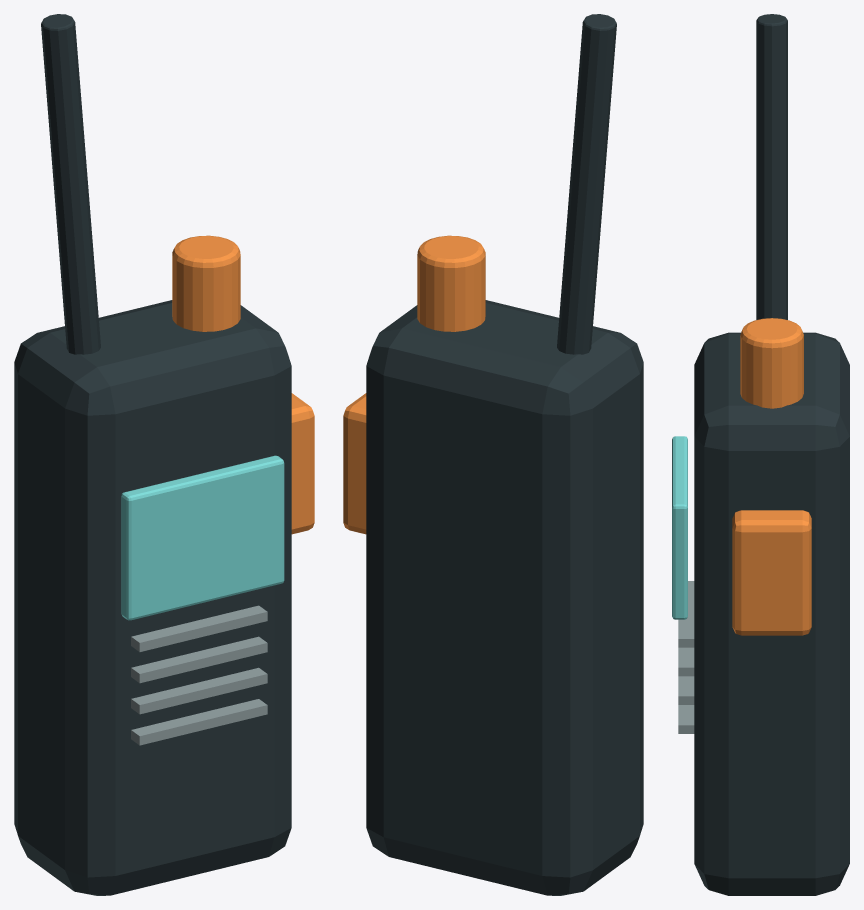
Rendered from P053_walkie_talkie.glb.
3 renders of one model, left to right at view 1: azimuth 30°, elevation 25°; view 2: azimuth 150°, elevation 25°; view 3: azimuth 270°, elevation 25°, orthographic. The views are drawn at different scales.
Parts seen in each view (by area): view 1: P053_body_001, P053_screen_002, P053_antenna_003, P053_knob_004, P053_push_button_009, P053_speaker_line_006, P053_speaker_line_007, P053_speaker_line_008, P053_speaker_line_005; view 2: P053_body_001, P053_antenna_003, P053_knob_004, P053_push_button_009; view 3: P053_body_001, P053_push_button_009, P053_antenna_003, P053_knob_004, P053_screen_002, P053_speaker_line_008, P053_speaker_line_007, P053_speaker_line_005, P053_speaker_line_006.
Boxes of the visible parts, <box> form: P053_body_001: <box>14,300,291,895</box>; P053_screen_002: <box>121,455,284,620</box>; P053_antenna_003: <box>41,14,100,354</box>; P053_knob_004: <box>172,235,240,331</box>; P053_push_button_009: <box>291,393,314,534</box>; P053_speaker_line_006: <box>131,667,267,714</box>; P053_speaker_line_007: <box>131,636,267,683</box>; P053_speaker_line_008: <box>131,605,267,651</box>; P053_speaker_line_005: <box>131,699,267,745</box>; P053_body_001: <box>366,300,643,895</box>; P053_antenna_003: <box>557,14,616,354</box>; P053_knob_004: <box>417,235,485,331</box>; P053_push_button_009: <box>343,393,366,534</box>; P053_body_001: <box>694,332,849,895</box>; P053_push_button_009: <box>732,510,811,635</box>; P053_antenna_003: <box>756,14,787,319</box>; P053_knob_004: <box>740,318,803,408</box>; P053_screen_002: <box>672,436,687,619</box>; P053_speaker_line_008: <box>678,581,694,647</box>; P053_speaker_line_007: <box>678,647,694,676</box>; P053_speaker_line_005: <box>678,705,694,733</box>; P053_speaker_line_006: <box>678,676,694,704</box>.
Bounding box in the file's own units: 0.086 × 0.2773 × 0.056.
